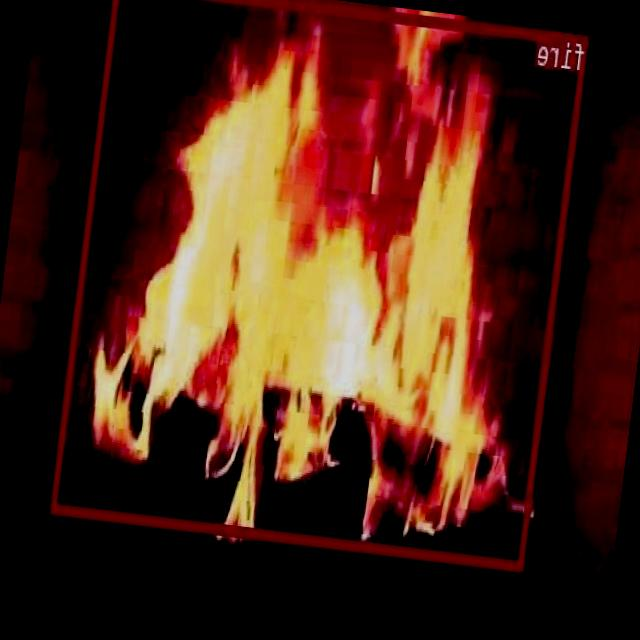fire: (51, 0, 590, 569)
